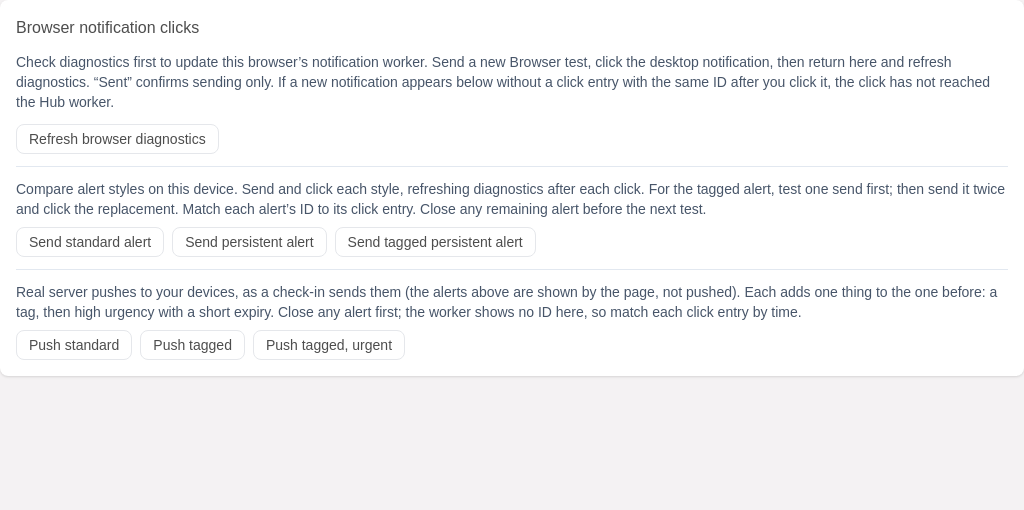
Scenario: BrowserPushDiagnostics › lets the admin send a tagged alert twice and shows the latest ID
Click the button "Send tagged persistent alert" at (435, 242), box 335,227 -> 536,257
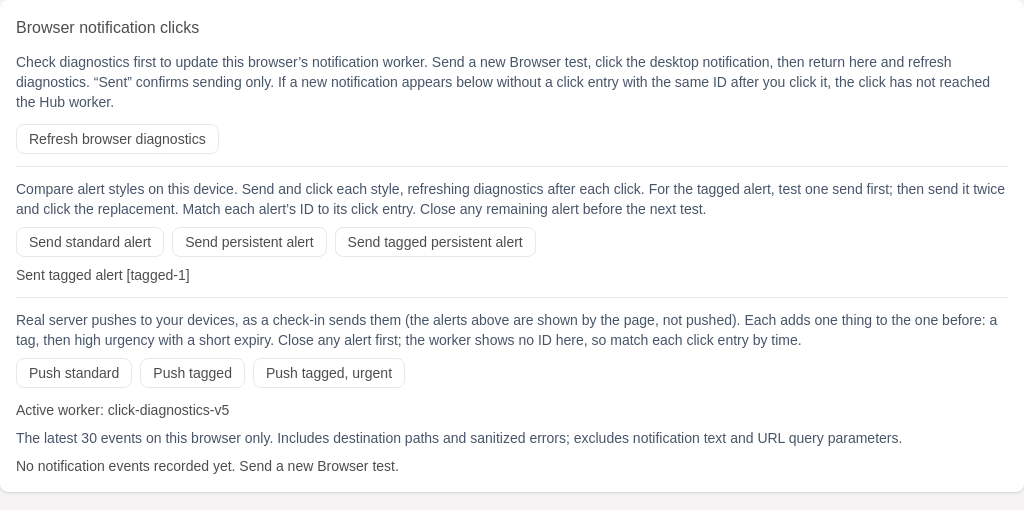
expect the text "Sent tagged alert [tagged-1]" is shown: met, box 16,267 -> 190,283
Click the button "Send tagged persistent alert" at (435, 242), box 335,227 -> 536,257
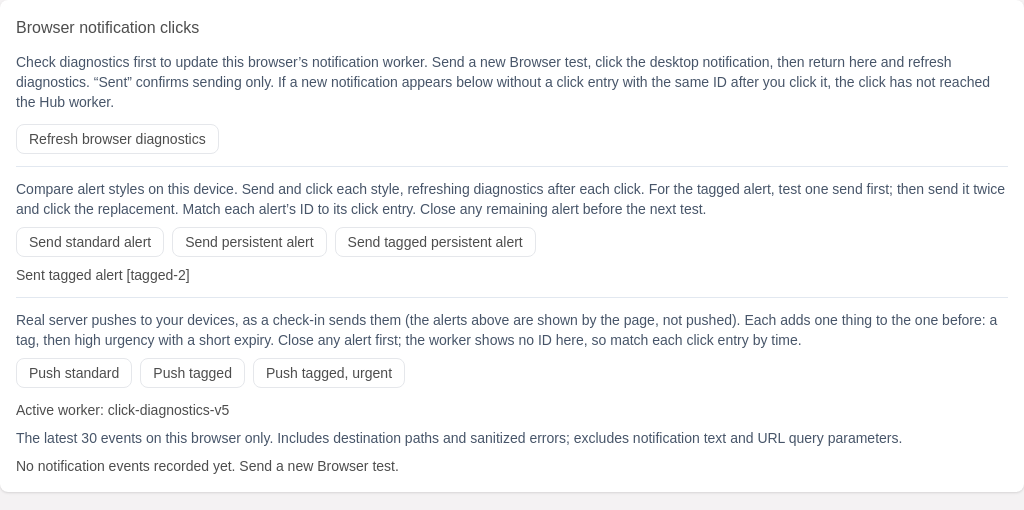
expect the text "Sent tagged alert [tagged-2]" is shown: met, box 16,267 -> 190,283
